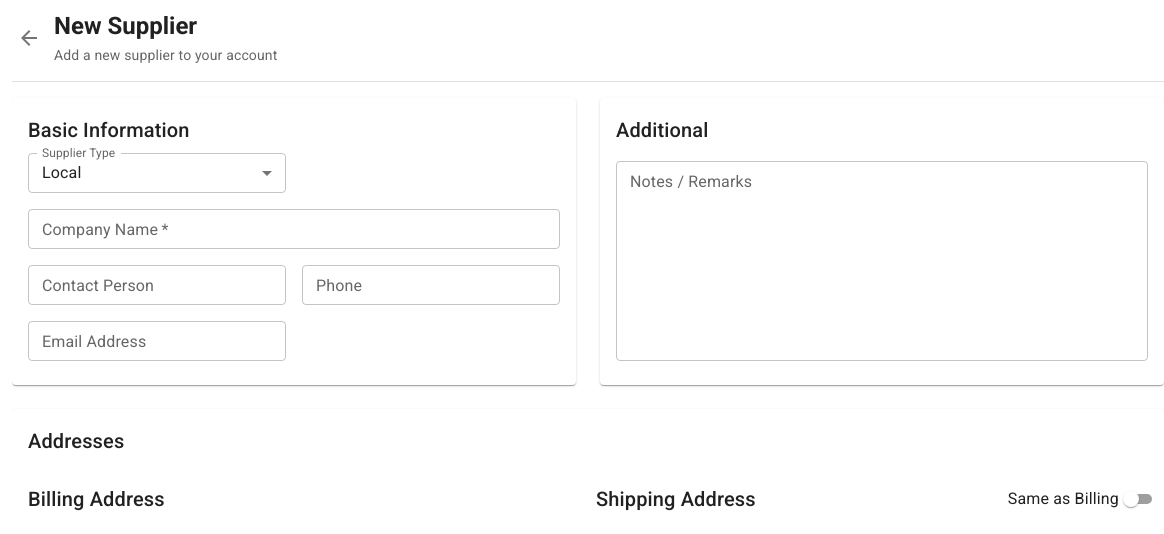
Test: SupplierFormPage - company name duplicate check › shows available message when company name is free
In the field labelled "Company Name *": (294, 229) [28, 209, 560, 249], type "New Corp"
Wait 500 ms
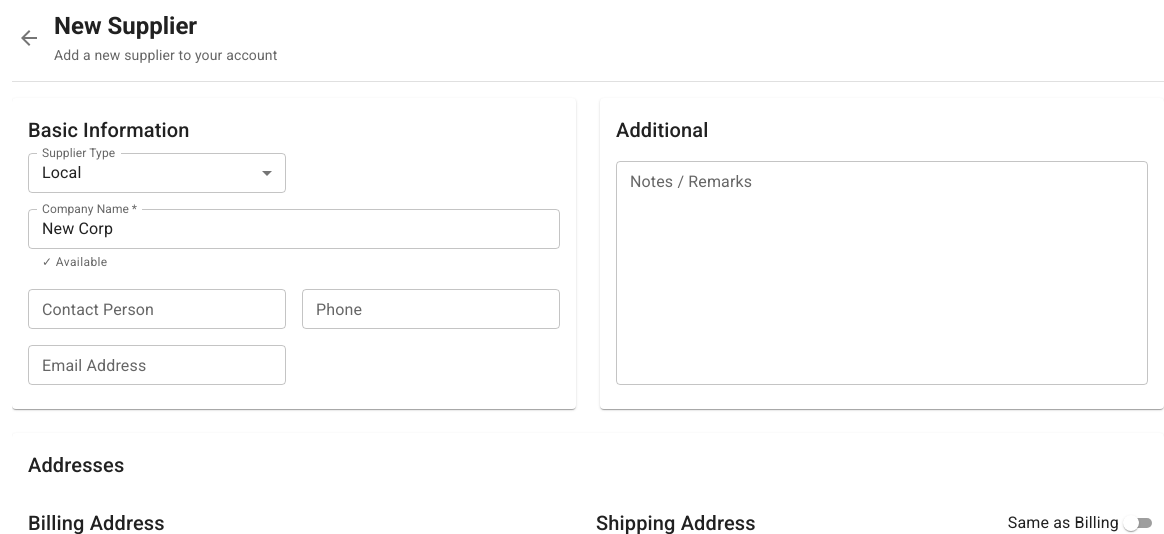
Now the text "✓ Available" is shown, box [42, 255, 108, 269]
